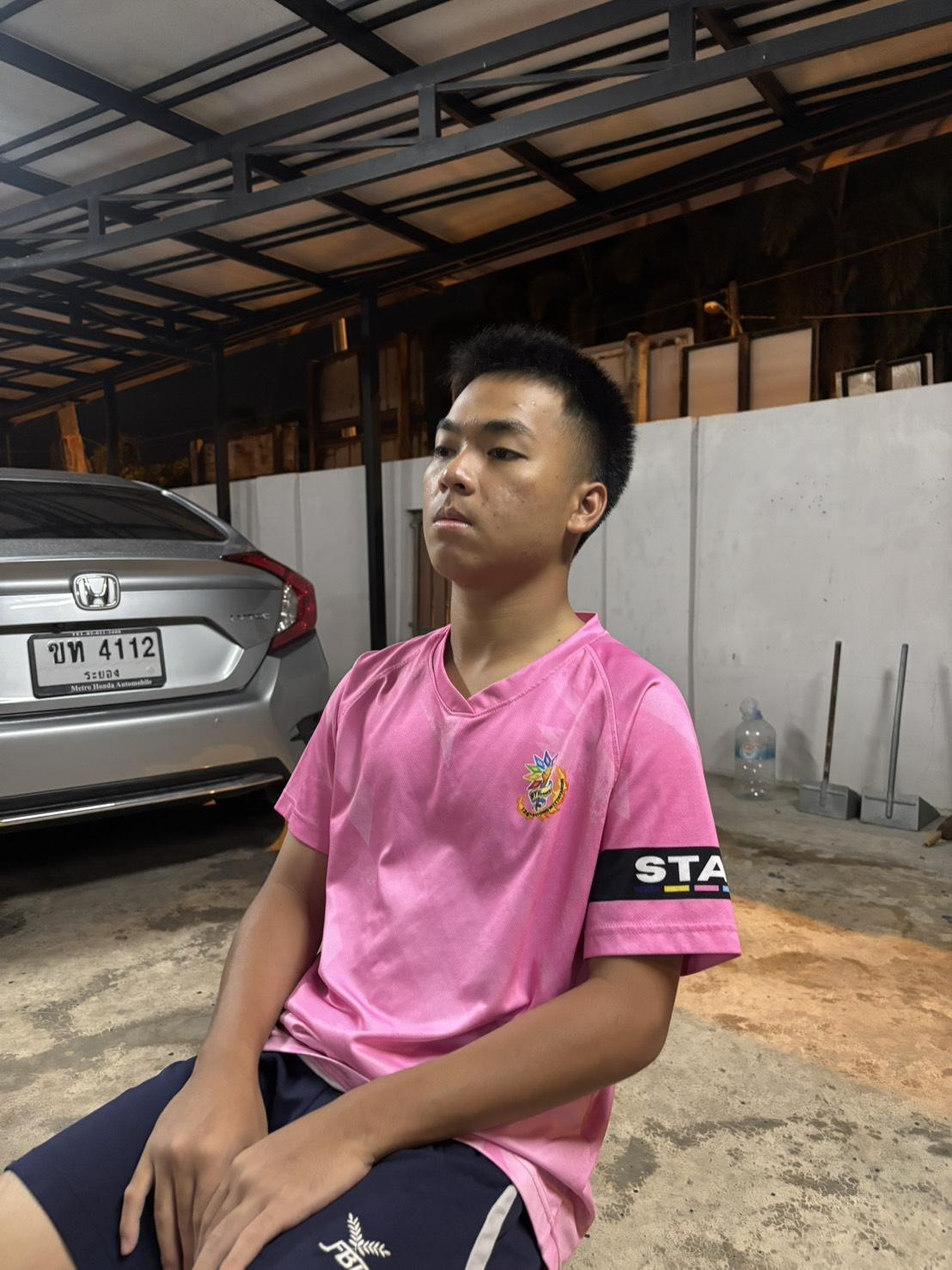BadPosture: (3, 322, 739, 1269)
